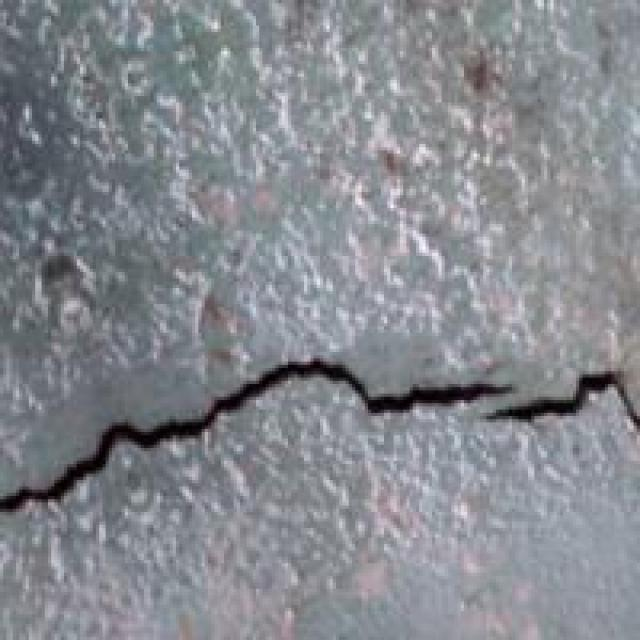Crack: (0, 275, 630, 563)
